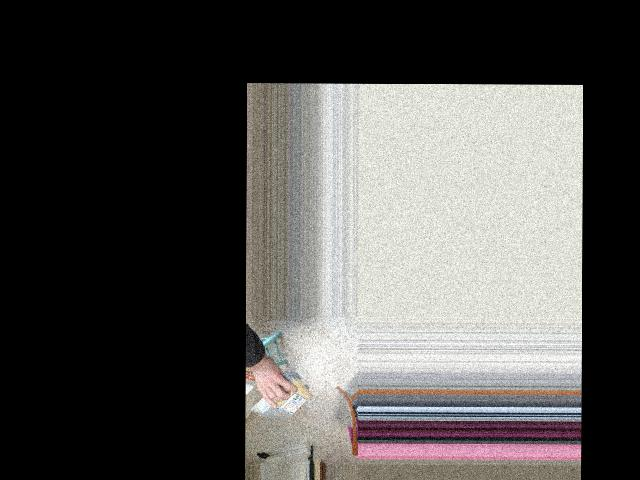cheese: (249, 382, 310, 415)
